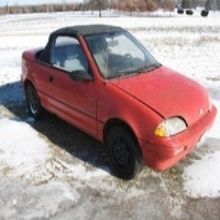no damage: (21, 24, 217, 180)
